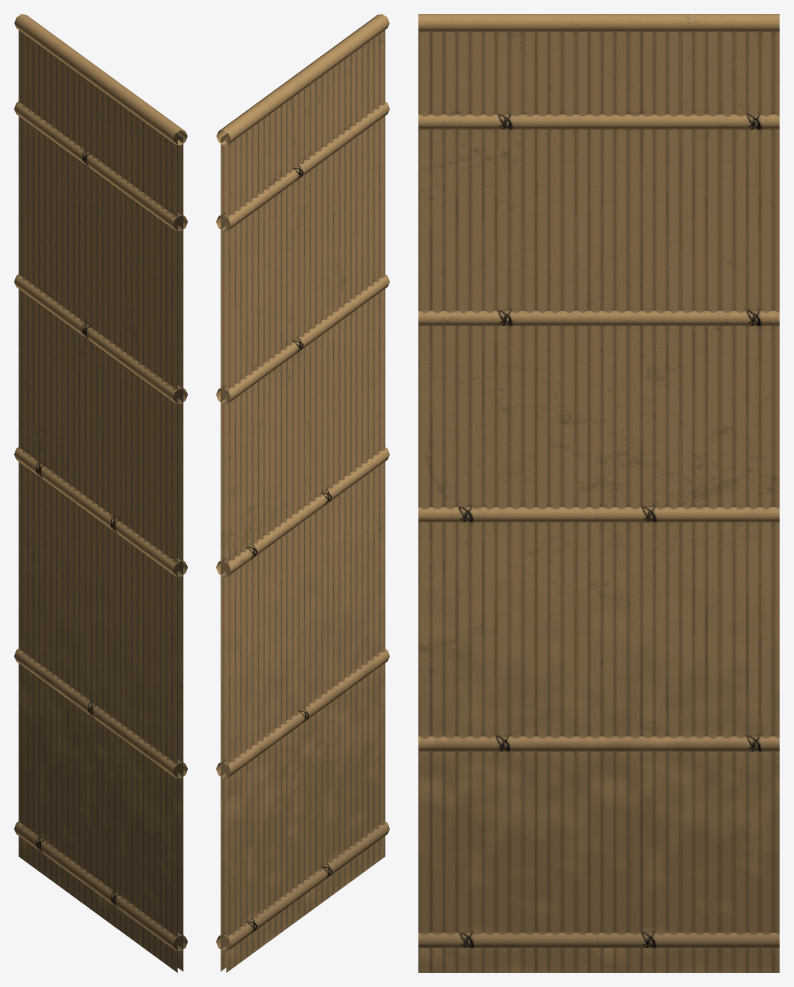
File: Onsen_Fence_Bamboo_01_1x3.fbx
3 views of the same model, side by side, from view 1: azimuth 30°, elevation 25°; view 2: azimuth 150°, elevation 25°; view 3: azimuth 270°, elevation 25° (orthographic). The views are drawn at different scales.
Parts seen in each view (by area): view 1: Onsen_Fence_Bamboo_01_1x3; view 2: Onsen_Fence_Bamboo_01_1x3; view 3: Onsen_Fence_Bamboo_01_1x3.
Boxes of the visible parts, x1,y1,x2,y2 form: Onsen_Fence_Bamboo_01_1x3: (14, 14, 187, 972); Onsen_Fence_Bamboo_01_1x3: (216, 14, 389, 972); Onsen_Fence_Bamboo_01_1x3: (418, 14, 779, 972).
Size of the model in its own units: 0.0545 by 2.92 by 1.
